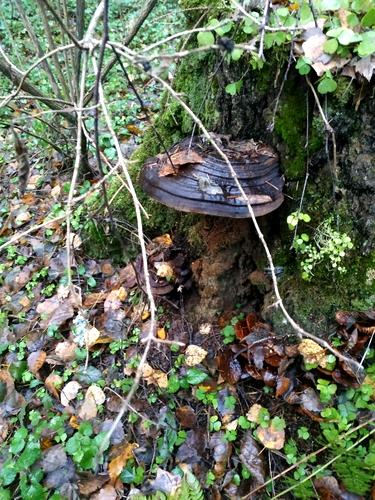Ganoderma - Fruit Body: (139, 134, 283, 218)
